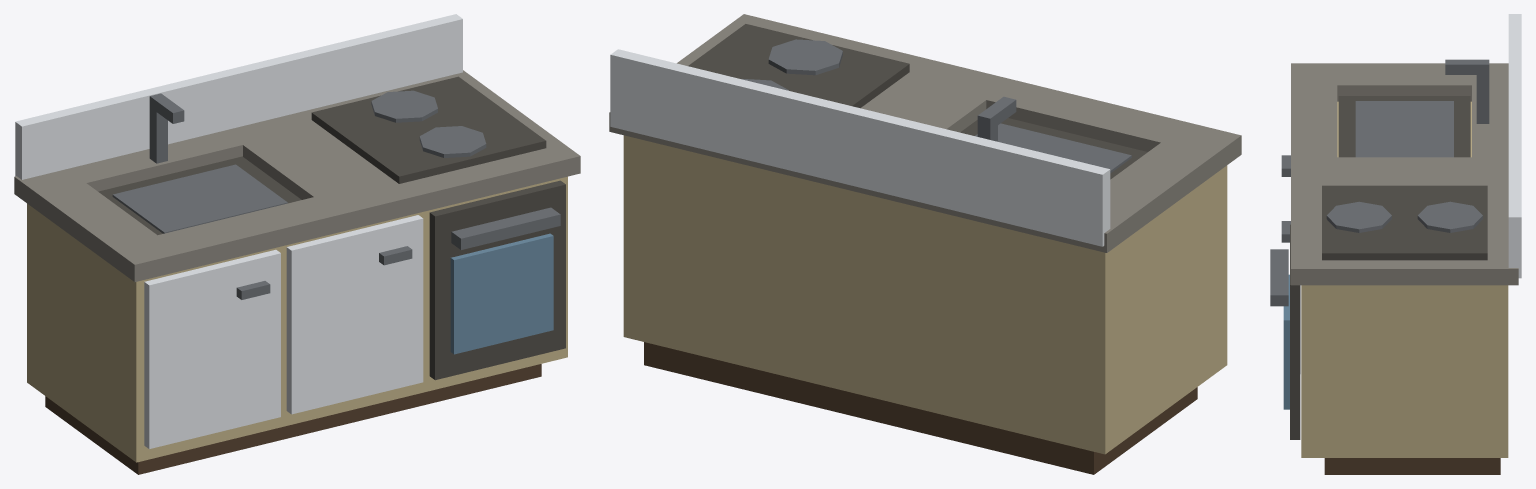
Rendered from prop-kitchen-counter.glb.
3 views of the same model, side by side, from view 1: azimuth 30°, elevation 25°; view 2: azimuth 150°, elevation 25°; view 3: azimuth 270°, elevation 25° (orthographic). The views are drawn at different scales.
Visible parts, largest first — view 1: cabinet_carcass, backsplash, cupboard_door_0, cupboard_door_-0.3, counter_right, oven_front, black_hob, oven_window, counter_left, counter_front, sink_basin, recessed_plinth (+7 smaller); view 2: cabinet_carcass, backsplash, recessed_plinth, counter_right, counter_left, black_hob, counter_front, sink_basin, burner_-0.088, sink_recess, counter_back, tap_spout; view 3: cabinet_carcass, counter_right, black_hob, counter_left, sink_basin, backsplash, counter_front, recessed_plinth, sink_recess, counter_back, oven_front, burner_-0.088 (+5 smaller).
Part boxes in pixels (left/top/right/bottom): cabinet_carcass: left=27, top=176, right=567, bottom=462; backsplash: left=15, top=14, right=462, bottom=179; cupboard_door_0: left=286, top=215, right=423, bottom=414; cupboard_door_-0.3: left=144, top=249, right=280, bottom=449; counter_right: left=224, top=70, right=580, bottom=232; oven_front: left=429, top=180, right=565, bottom=380; black_hob: left=311, top=76, right=546, bottom=183; oven_window: left=450, top=233, right=553, bottom=354; counter_left: left=14, top=169, right=182, bottom=281; counter_front: left=158, top=197, right=338, bottom=270; sink_basin: left=112, top=164, right=287, bottom=233; recessed_plinth: left=45, top=364, right=541, bottom=474; cabinet_carcass: left=623, top=135, right=1227, bottom=454; backsplash: left=610, top=49, right=1110, bottom=246; recessed_plinth: left=644, top=342, right=1197, bottom=474; counter_right: left=609, top=14, right=1013, bottom=197; counter_left: left=1054, top=122, right=1241, bottom=252; black_hob: left=688, top=24, right=909, bottom=108; counter_front: left=986, top=80, right=1188, bottom=151; sink_basin: left=975, top=123, right=1131, bottom=173; burner_-0.088: left=768, top=39, right=842, bottom=75; sink_recess: left=960, top=118, right=1147, bottom=179; counter_back: left=879, top=192, right=1053, bottom=239; tap_spout: left=977, top=96, right=1016, bottom=130; cabinet_carcass: left=1301, top=101, right=1508, bottom=457; counter_right: left=1291, top=157, right=1518, bottom=285; black_hob: left=1322, top=185, right=1487, bottom=260; counter_left: left=1291, top=63, right=1508, bottom=101; sink_basin: left=1355, top=101, right=1453, bottom=157; backsplash: left=1508, top=14, right=1521, bottom=278; counter_front: left=1291, top=85, right=1337, bottom=157; recessed_plinth: left=1324, top=458, right=1500, bottom=474; sink_recess: left=1338, top=96, right=1470, bottom=157; counter_back: left=1472, top=85, right=1508, bottom=157; oven_front: left=1290, top=224, right=1300, bottom=439; burner_-0.088: left=1326, top=201, right=1391, bottom=232.
Size of the model in its own units: 0.94 by 0.586 by 0.485.
